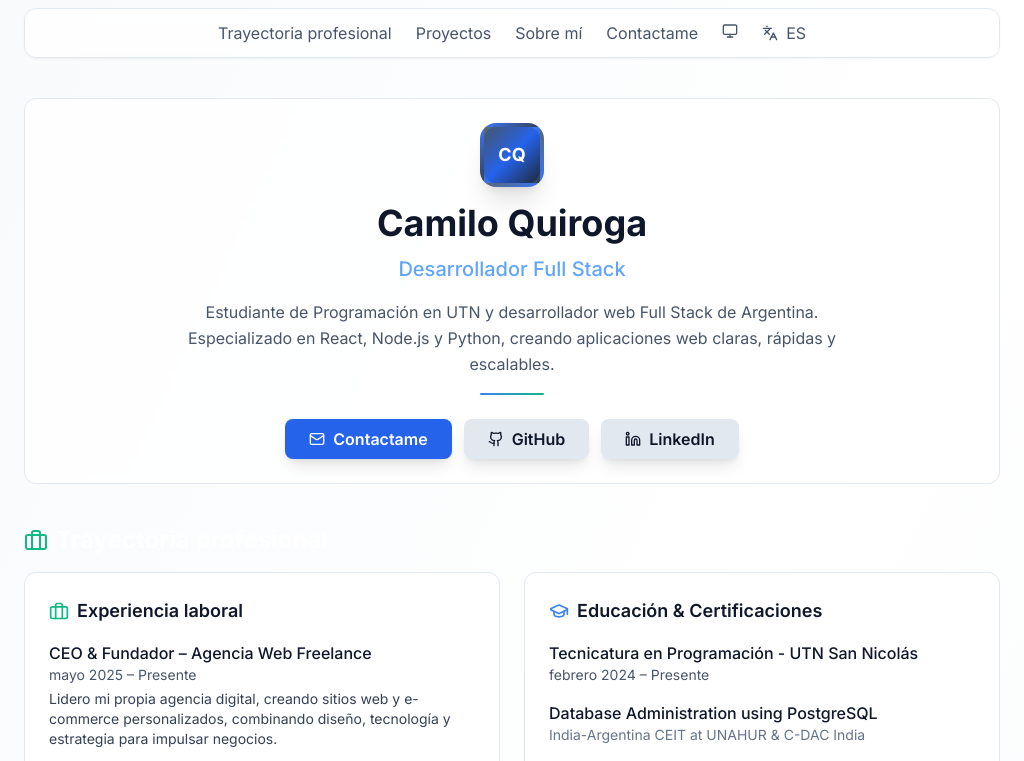
App › toggles language when language button is clicked
expect the heading "Trayectoria profesional" is shown: met, box [24,525,328,554]
// Click language toggle
Click the button with aria-label "Cambiar idioma a inglés" at (784, 33), box [762,21,806,45]
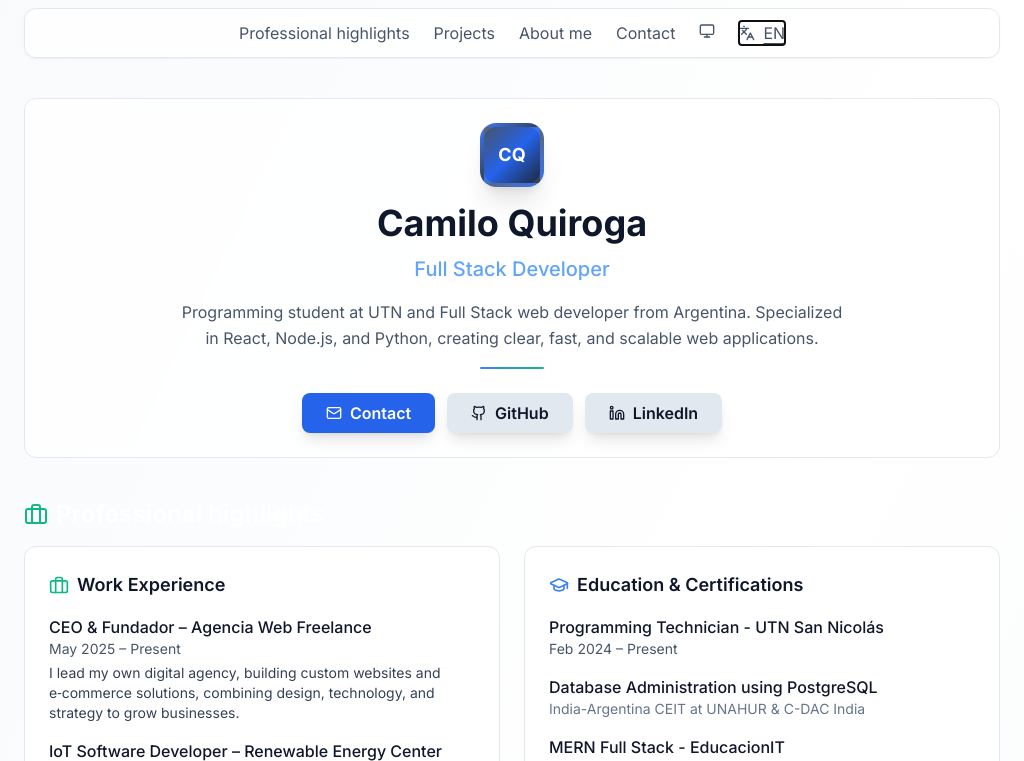
expect the heading "Professional highlights" is shown: met, box [24,499,325,528]
expect the button with aria-label "Switch language to Spanish" is shown: met, box [739,21,785,45]
